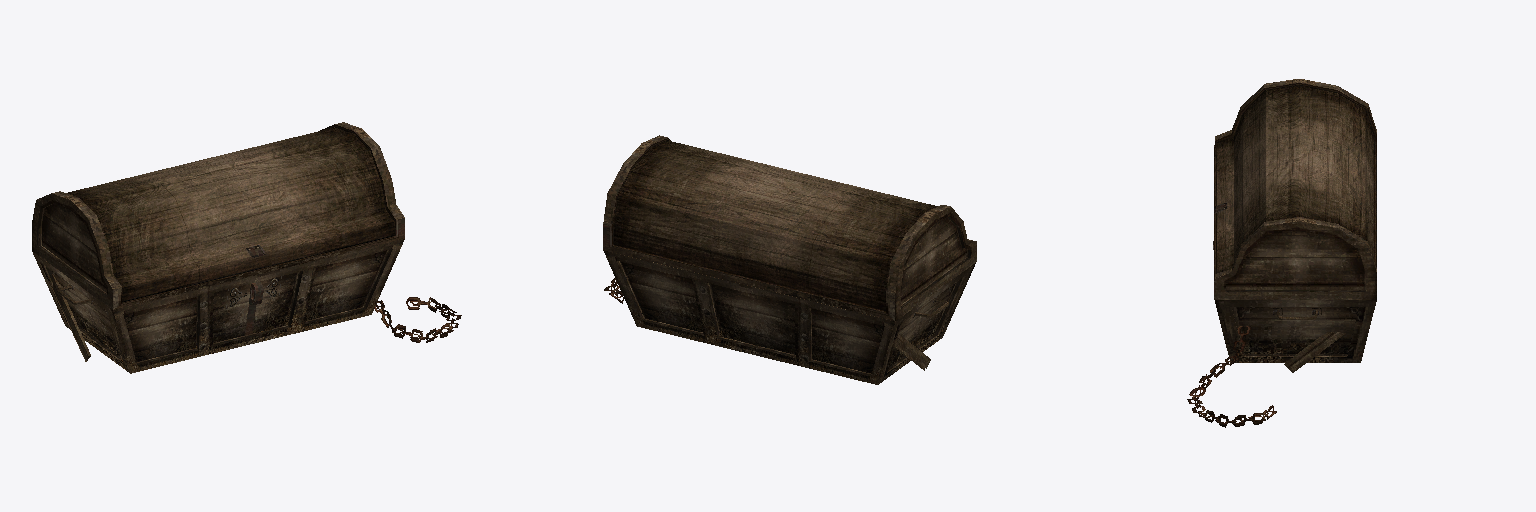
The picture shows the model from 3 angles: view 1: azimuth 30°, elevation 25°; view 2: azimuth 150°, elevation 25°; view 3: azimuth 270°, elevation 25°; orthographic projection.
Visible parts, largest first — view 1: mesh0; view 2: mesh0; view 3: mesh0.
Boxes of the visible parts, x1=… form: mesh0: x1=32, y1=122, x2=461, y2=373; mesh0: x1=603, y1=135, x2=976, y2=384; mesh0: x1=1187, y1=79, x2=1376, y2=427.
Bounding box in the file's own units: 1.67 × 0.8043 × 0.7745.
1 materials, 1 textured.